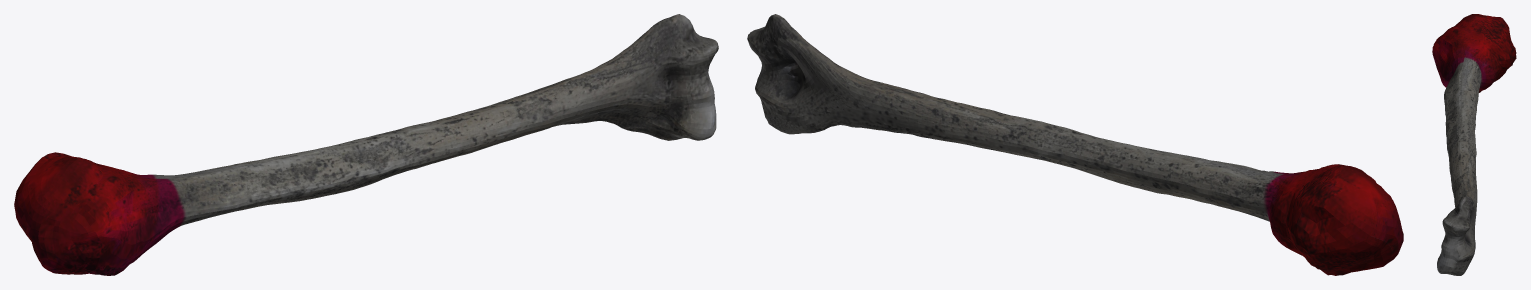
The model's file is Human Bone.fbx.
The picture shows the model from 3 angles, left to right: view 1: azimuth 30°, elevation 25°; view 2: azimuth 150°, elevation 25°; view 3: azimuth 270°, elevation 25°; orthographic projection. The views are drawn at different scales.
Parts seen in each view (by area): view 1: BONE_LOW; view 2: BONE_LOW; view 3: BONE_LOW.
Boxes of the visible parts, bbox=[...] form: BONE_LOW: bbox=[14, 14, 718, 275]; BONE_LOW: bbox=[747, 14, 1403, 275]; BONE_LOW: bbox=[1432, 14, 1516, 275].
Bounding box in the file's own units: 36.72 × 6.31 × 6.16.
